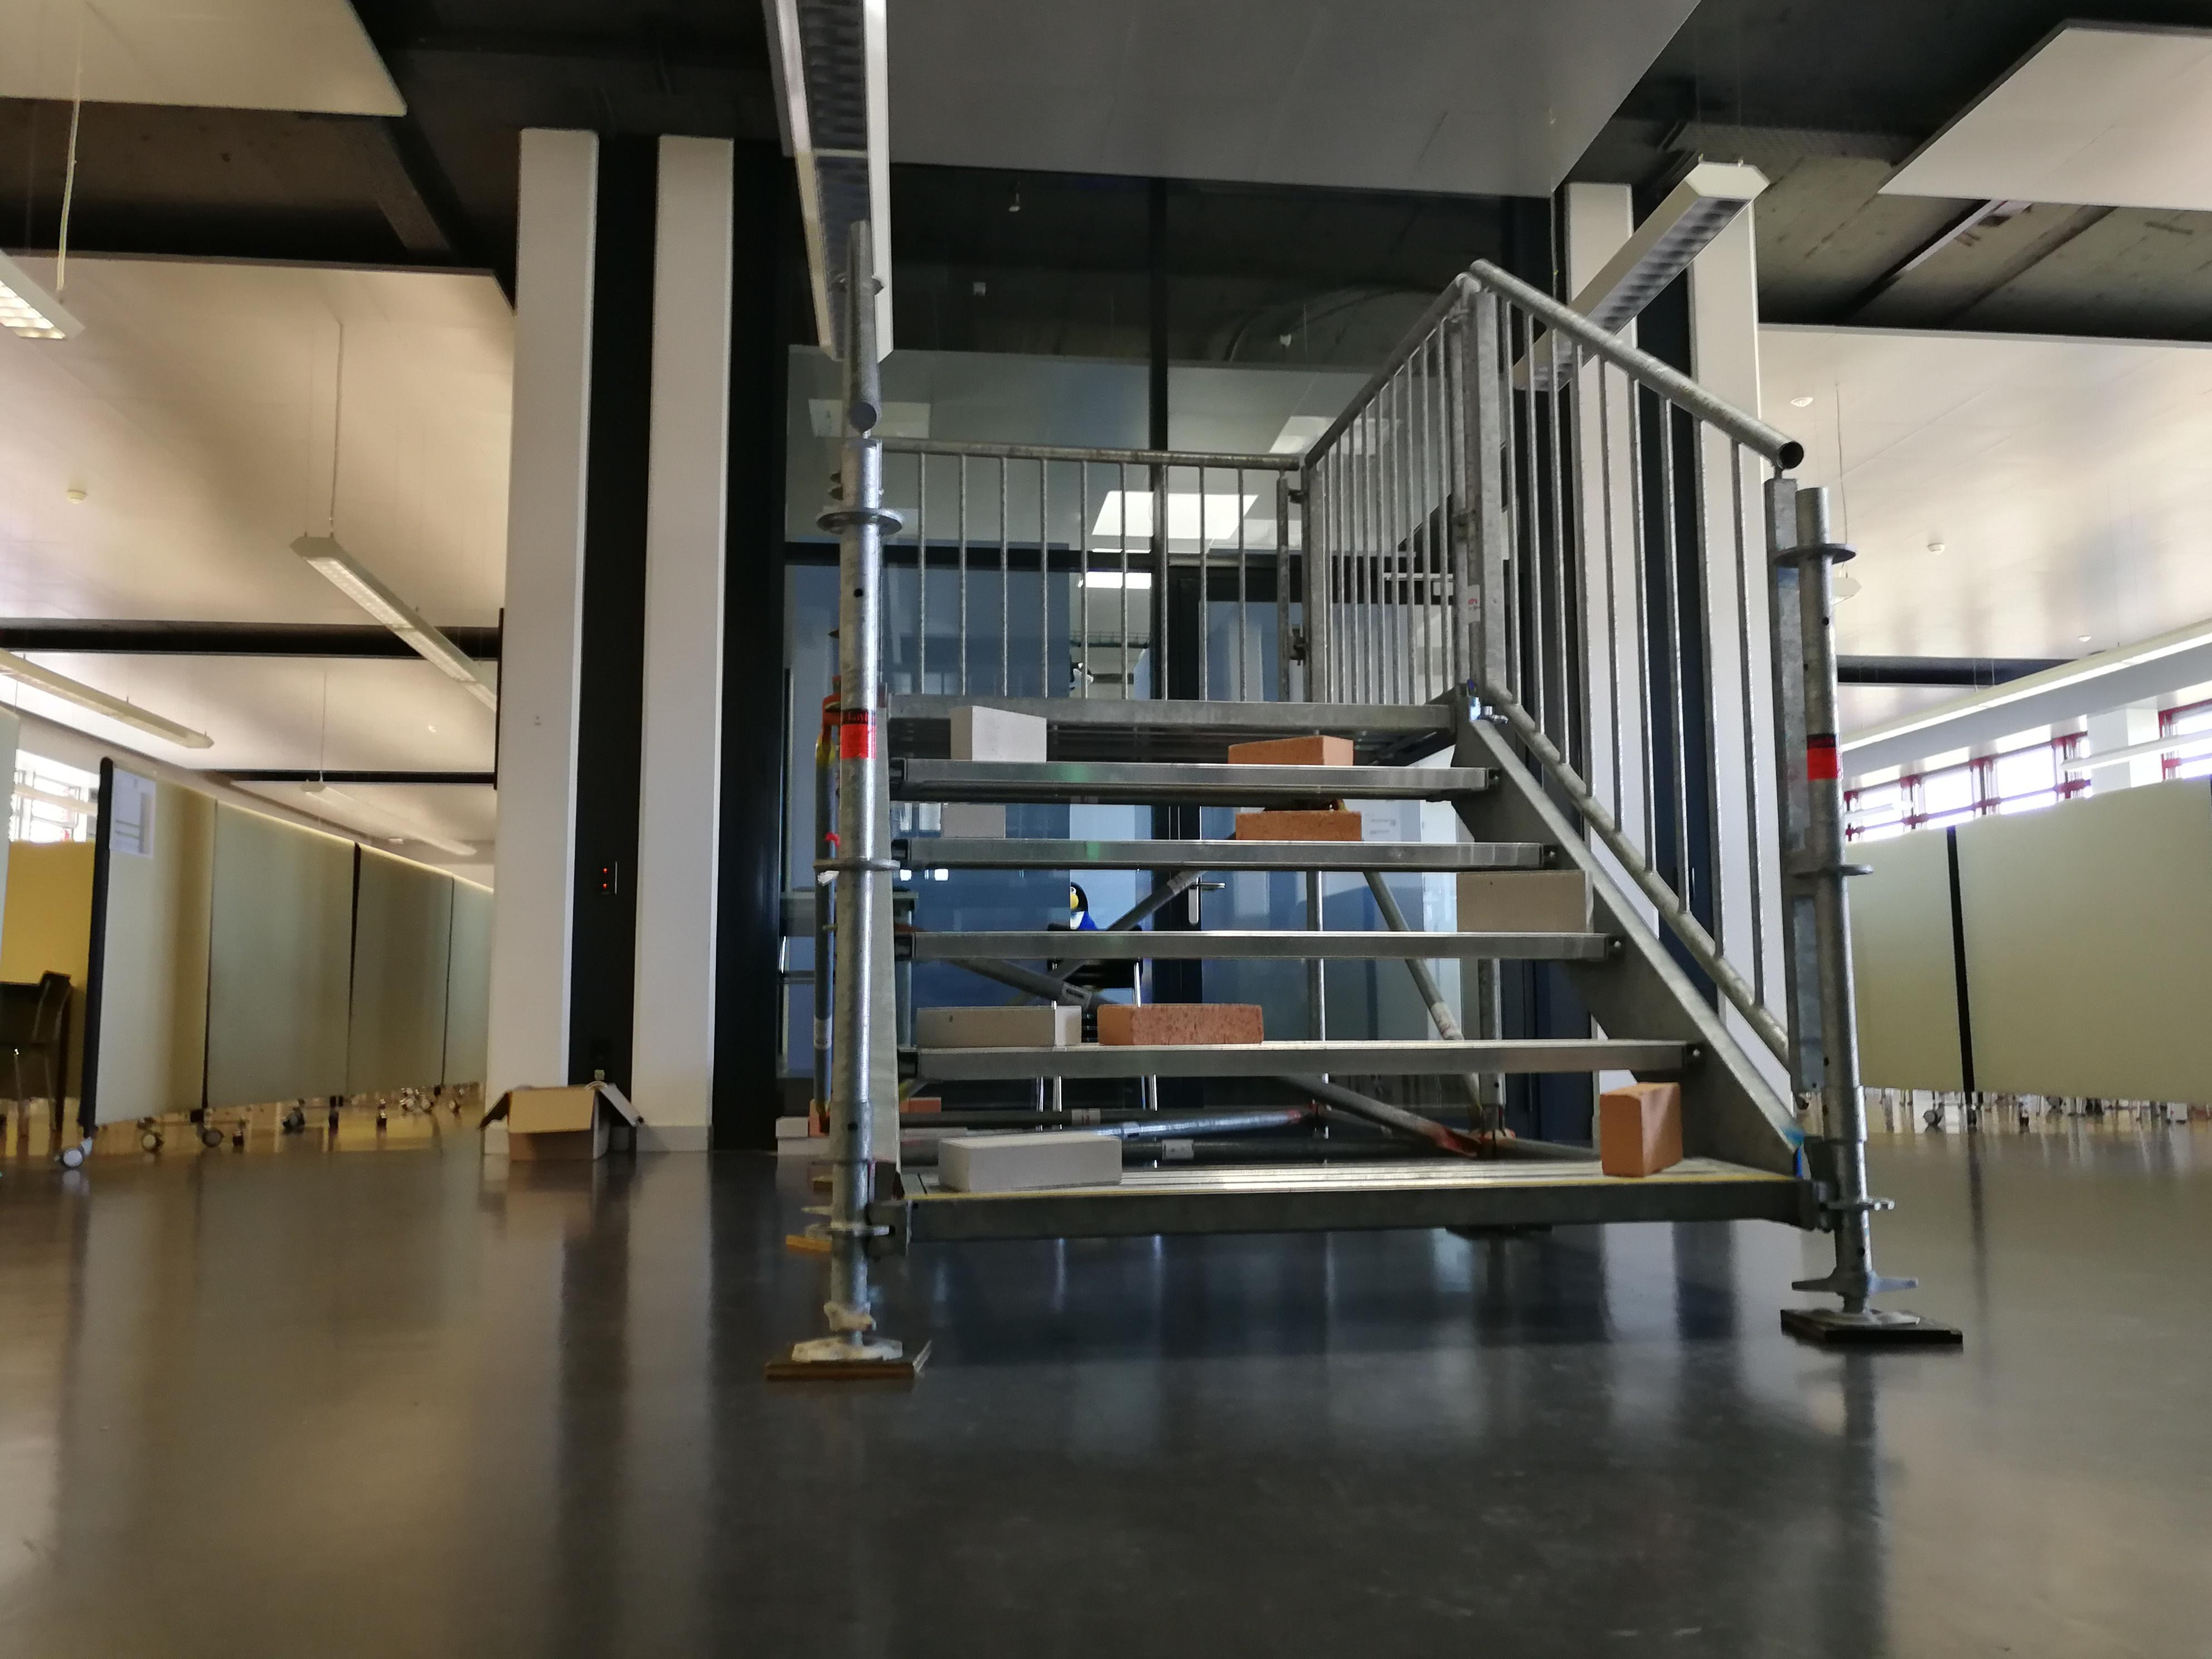brick: (942, 1133, 1118, 1192), (1456, 871, 1594, 938), (1601, 1086, 1683, 1175), (914, 1006, 1078, 1046), (1097, 1006, 1256, 1044), (951, 706, 1047, 760), (1226, 734, 1352, 767), (1233, 810, 1360, 840), (942, 803, 1003, 838)
edge: (904, 1175, 1796, 1237), (892, 1042, 1693, 1077), (892, 929, 1625, 958), (888, 692, 1451, 730), (890, 758, 1503, 793), (894, 836, 1566, 868)
stairs: (761, 221, 1963, 1385)
steps: (881, 674, 1804, 1258)
